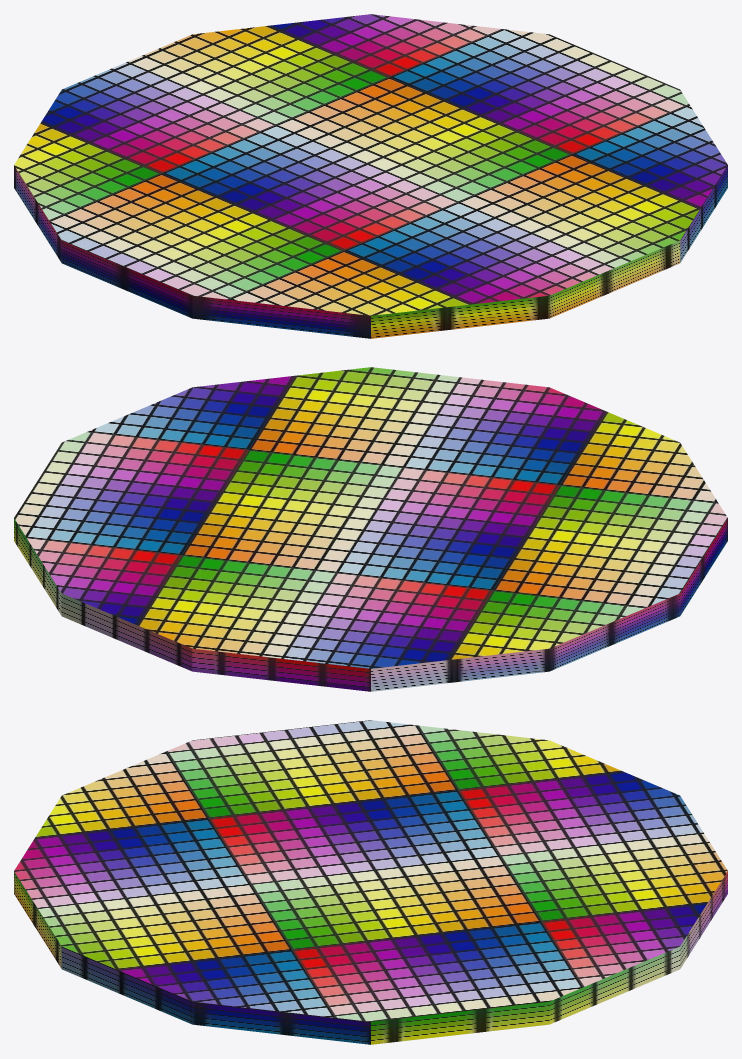
The model's file is start.glb.
3 renders of one model, top to bottom at view 1: azimuth 30°, elevation 25°; view 2: azimuth 150°, elevation 25°; view 3: azimuth 270°, elevation 25°, orthographic.
Parts seen in each view (by area): view 1: Cylinder; view 2: Cylinder; view 3: Cylinder.
Boxes of the visible parts, x1=… form: Cylinder: x1=14, y1=14, x2=727, y2=338; Cylinder: x1=14, y1=367, x2=727, y2=691; Cylinder: x1=14, y1=720, x2=727, y2=1044.
Bounding box in the file's own units: 7.52 × 0.2668 × 7.52.
1 material, 1 textured.
